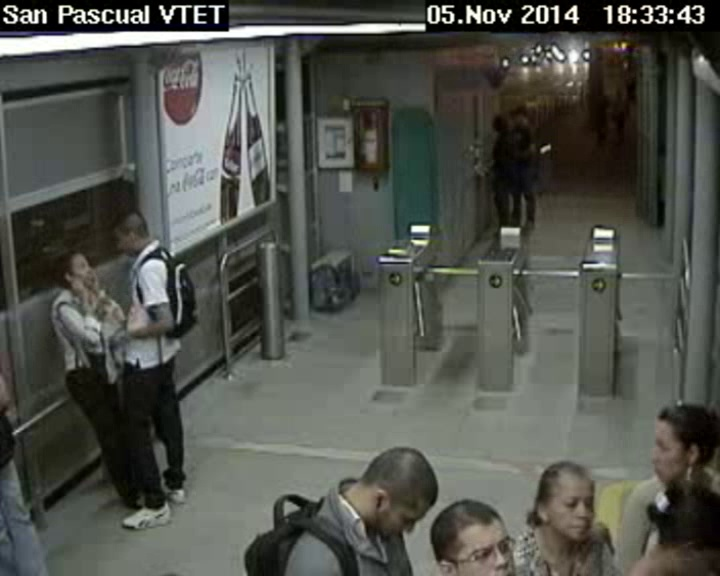person: (353, 428, 437, 545), (423, 488, 517, 576), (635, 479, 720, 576), (642, 394, 720, 490), (531, 452, 602, 544), (113, 209, 159, 259), (56, 247, 99, 295), (489, 114, 508, 135), (511, 106, 530, 126)
